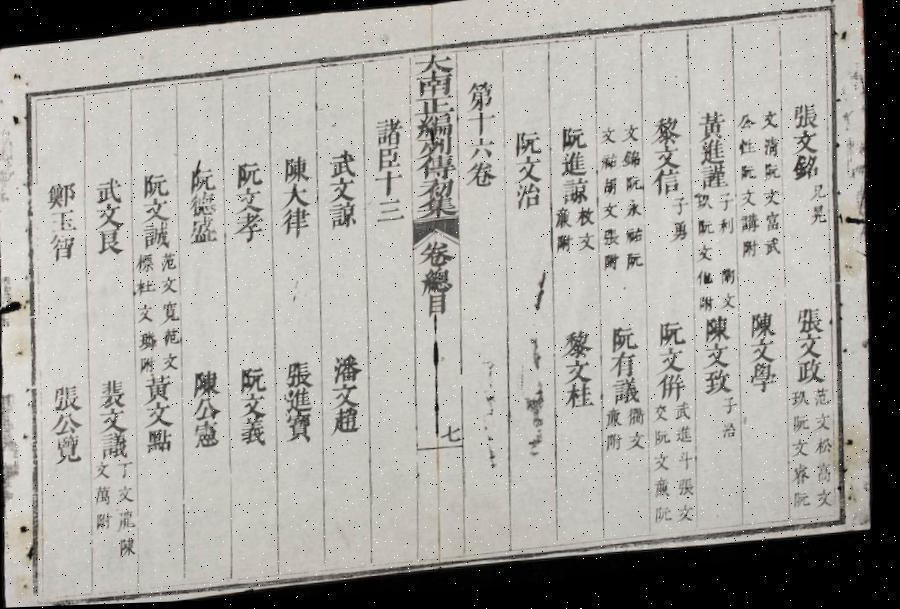c: (186, 156, 222, 195), (419, 240, 460, 272), (416, 156, 461, 184), (54, 432, 91, 466), (280, 206, 316, 240), (332, 352, 368, 386), (44, 178, 82, 210), (413, 116, 456, 144), (99, 375, 134, 409), (234, 212, 269, 246), (412, 53, 456, 80), (563, 330, 599, 363), (649, 118, 685, 151), (465, 80, 498, 116), (52, 380, 89, 412), (240, 416, 274, 450), (285, 358, 320, 391), (418, 197, 462, 223), (564, 385, 602, 415), (421, 268, 459, 298), (99, 431, 138, 460), (286, 412, 320, 445), (373, 117, 407, 150), (696, 112, 729, 146), (144, 372, 179, 404), (612, 379, 648, 410), (326, 202, 362, 233), (414, 74, 456, 100), (281, 153, 314, 186), (750, 366, 784, 398), (239, 363, 273, 395), (194, 418, 228, 450), (796, 308, 830, 340), (327, 148, 361, 180), (187, 215, 222, 246), (373, 170, 408, 201), (140, 221, 176, 251), (193, 367, 226, 399), (414, 97, 458, 121), (657, 321, 691, 352), (513, 157, 547, 188), (658, 376, 693, 406), (333, 408, 368, 438), (93, 174, 128, 204), (465, 162, 500, 192), (560, 180, 595, 210), (47, 206, 83, 235), (796, 362, 832, 391), (52, 410, 90, 437), (749, 313, 781, 345), (234, 159, 267, 190), (790, 105, 823, 136), (48, 232, 82, 262), (140, 169, 174, 199), (286, 386, 320, 416), (610, 326, 644, 356), (512, 130, 546, 160), (418, 179, 460, 203), (652, 171, 685, 201), (95, 226, 128, 256), (559, 152, 592, 182), (94, 202, 128, 231), (333, 383, 367, 412), (234, 187, 268, 216), (658, 350, 692, 379), (327, 177, 361, 206), (375, 199, 410, 227), (698, 167, 733, 195), (416, 138, 458, 161), (148, 426, 180, 456), (611, 353, 643, 383), (704, 318, 736, 348), (514, 184, 546, 214), (792, 157, 824, 187), (705, 371, 738, 400), (100, 406, 134, 434), (796, 338, 830, 366), (188, 191, 222, 219), (140, 196, 174, 224), (565, 361, 599, 389), (146, 402, 180, 430), (280, 182, 314, 210), (704, 346, 736, 375), (559, 126, 591, 155), (698, 142, 730, 171), (241, 392, 274, 420), (465, 112, 500, 138), (750, 342, 782, 370), (652, 148, 685, 175), (791, 134, 822, 162), (194, 396, 226, 423), (374, 148, 406, 175), (466, 138, 499, 164), (426, 295, 455, 321), (160, 298, 186, 325), (740, 214, 766, 240), (120, 506, 144, 532), (96, 482, 120, 508), (816, 464, 840, 489), (669, 222, 693, 247), (794, 466, 818, 491), (808, 208, 832, 232), (120, 534, 144, 558), (139, 328, 163, 352), (607, 409, 630, 434), (656, 478, 678, 503), (138, 301, 160, 326), (761, 138, 783, 163), (629, 409, 652, 432), (576, 208, 599, 231), (680, 478, 702, 502), (680, 452, 702, 476), (816, 439, 840, 461), (760, 112, 782, 136), (815, 390, 837, 414), (630, 432, 652, 456), (136, 251, 158, 275), (796, 493, 819, 515), (657, 507, 680, 529), (670, 198, 692, 221), (655, 454, 677, 477), (578, 233, 600, 256), (624, 201, 646, 224), (793, 392, 816, 414), (742, 242, 764, 265), (695, 194, 718, 216), (622, 151, 644, 174), (444, 424, 467, 446), (557, 234, 578, 258), (762, 165, 784, 187), (119, 482, 141, 504), (97, 460, 119, 482), (819, 492, 841, 514), (816, 416, 838, 438), (608, 434, 630, 456), (764, 240, 786, 262), (676, 404, 698, 426), (794, 442, 816, 464), (678, 427, 700, 449), (794, 416, 816, 438), (626, 253, 648, 275), (762, 190, 784, 212), (163, 325, 185, 347), (738, 140, 760, 162), (740, 191, 761, 214), (98, 509, 119, 531), (680, 506, 701, 528), (723, 398, 744, 420), (136, 277, 158, 298), (656, 430, 678, 451), (697, 246, 718, 268), (740, 166, 762, 187), (697, 220, 718, 242), (621, 126, 642, 148), (626, 228, 648, 249), (600, 154, 622, 175), (603, 230, 624, 252), (765, 214, 785, 237), (160, 250, 180, 273), (556, 210, 576, 233), (809, 186, 830, 207), (624, 177, 645, 198), (119, 459, 140, 480), (656, 405, 676, 427), (738, 114, 758, 136), (724, 424, 744, 445), (164, 351, 184, 372), (141, 354, 162, 374), (162, 274, 182, 295), (602, 204, 623, 224), (700, 297, 720, 318), (698, 271, 719, 291), (718, 194, 737, 216), (602, 179, 621, 201), (605, 255, 624, 276), (600, 128, 619, 149), (722, 295, 741, 315), (722, 270, 740, 290), (719, 220, 737, 239)
